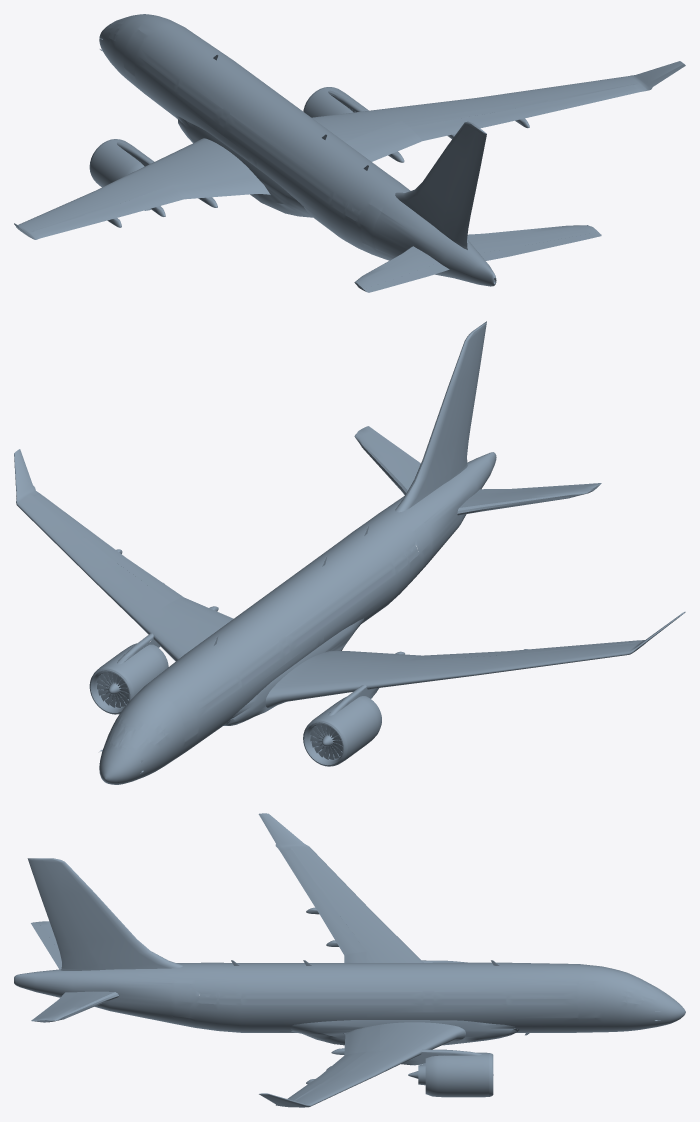
3 views of the same model, one above another, from view 1: azimuth 30°, elevation 25°; view 2: azimuth 150°, elevation 25°; view 3: azimuth 270°, elevation 25° (orthographic). The views are drawn at different scales.
Bounding box in the file's own units: 34.59 × 11.05 × 35.02.
